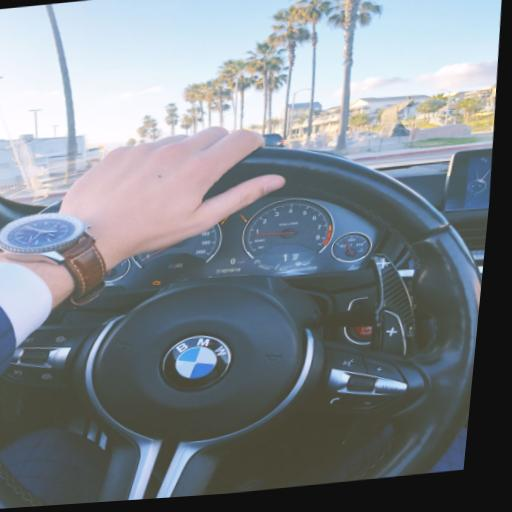Hands-on-the-Wheel: (6, 97, 325, 265)
